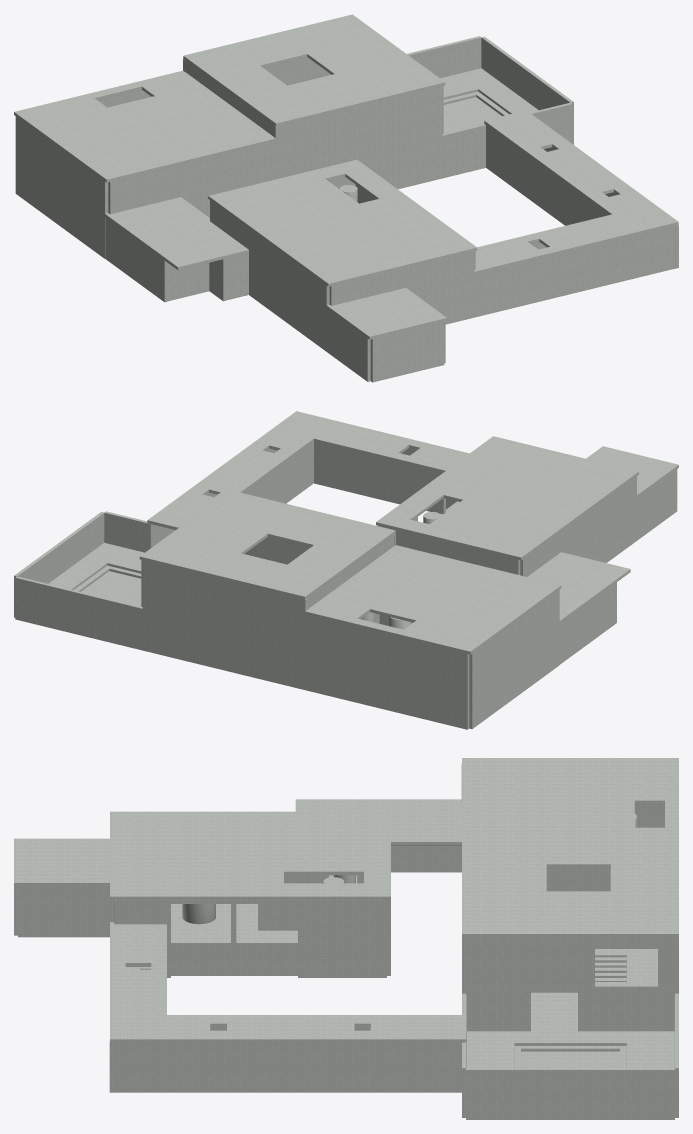
Rendered from architecture.glb.
3 renders of one model, top to bottom at view 1: azimuth 30°, elevation 25°; view 2: azimuth 150°, elevation 25°; view 3: azimuth 270°, elevation 25°, orthographic. The views are drawn at different scales.
Parts seen in each view (by area): view 1: Poolcore_Architecture; view 2: Poolcore_Architecture; view 3: Poolcore_Architecture.
Boxes of the visible parts, bbox=[...] form: Poolcore_Architecture: bbox=[14, 14, 678, 382]; Poolcore_Architecture: bbox=[14, 411, 678, 729]; Poolcore_Architecture: bbox=[14, 758, 678, 1119].
Size of the model in its own units: 39.56 by 7.7 by 41.56.
Materials: 1 (1 with a texture image).
